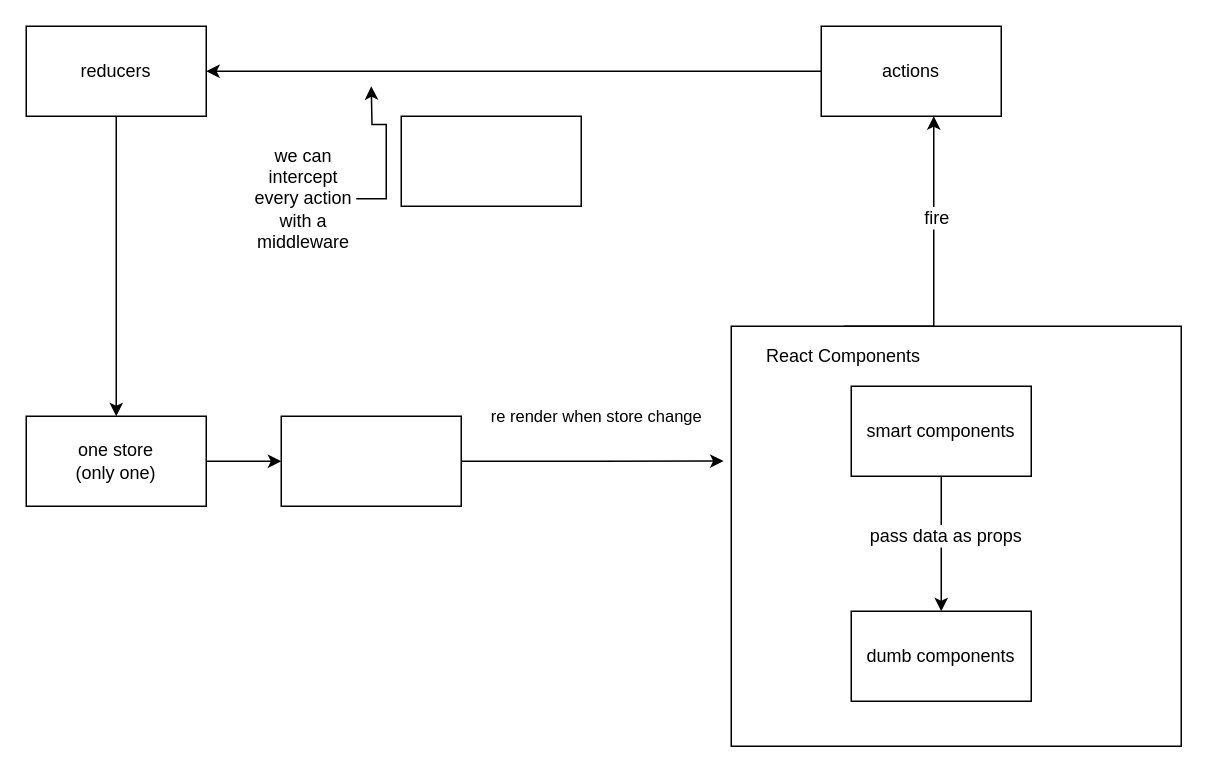
Some shapes in this 1208 by 773 pixel diagram are drawn without their labels. The shapes that lost their labels are listed below. From the top down, each one's centre as x and y in pixels, then its label:
At [490,160]: "redux-saga middleware".
At [370,460]: "provider component".
